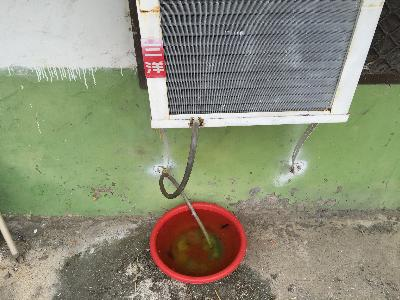bowl: (147, 201, 248, 286)
